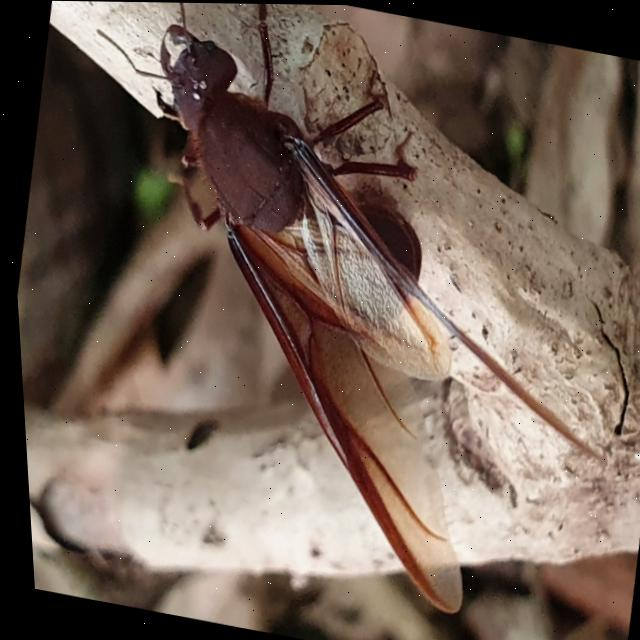Alive-Female-Alate: (2, 0, 640, 640)
